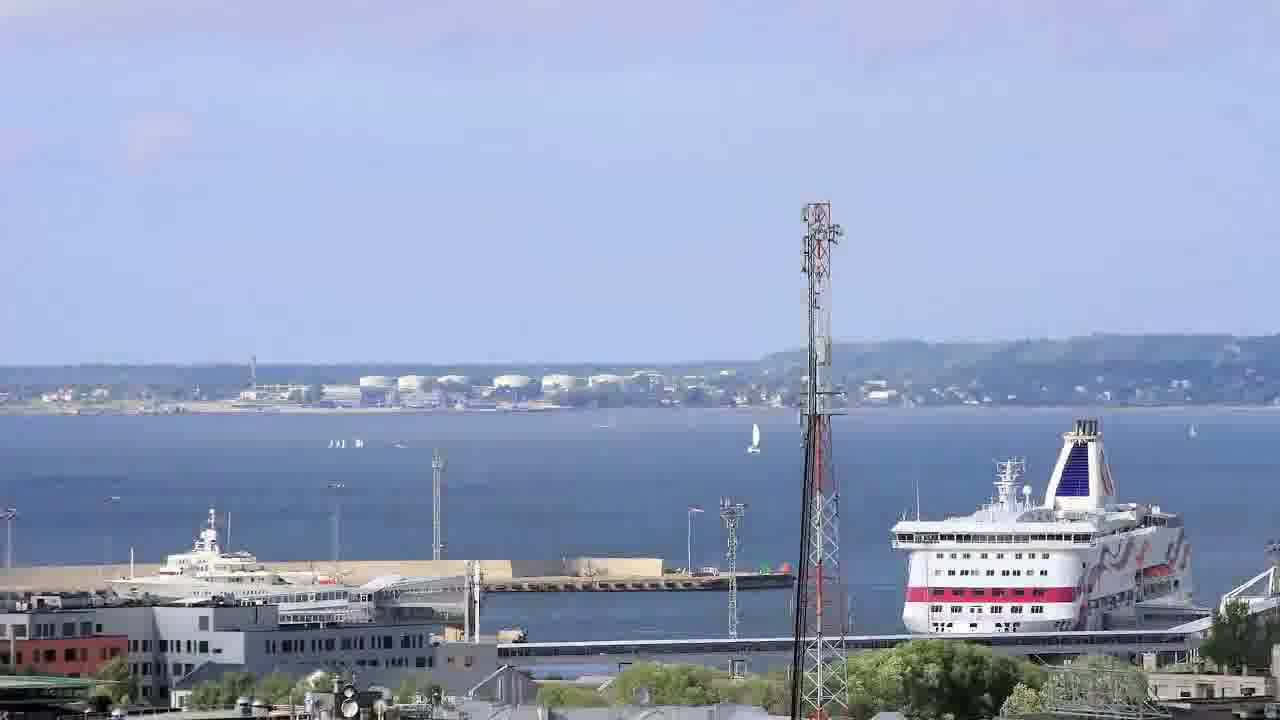type-2: (723, 408, 775, 467)
type-3: (868, 415, 1225, 638), (84, 537, 359, 610)
